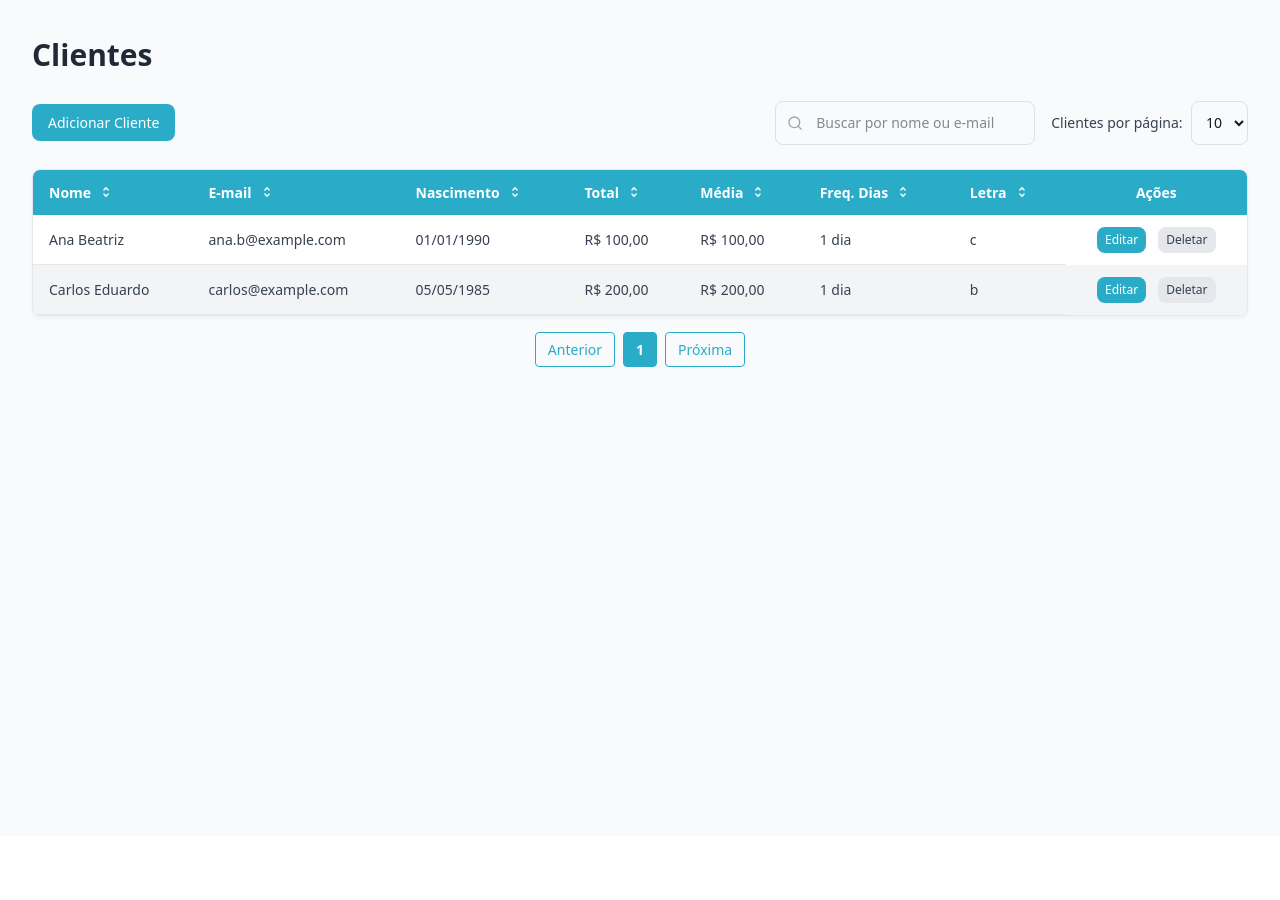
Test: ClientsPage CRUD › Should create a new client correctly
Expected: the text "Ana Beatriz" is shown, [33,215,192,265]
Click the button "Adicionar Cliente": (104, 123) [32,104,176,141]
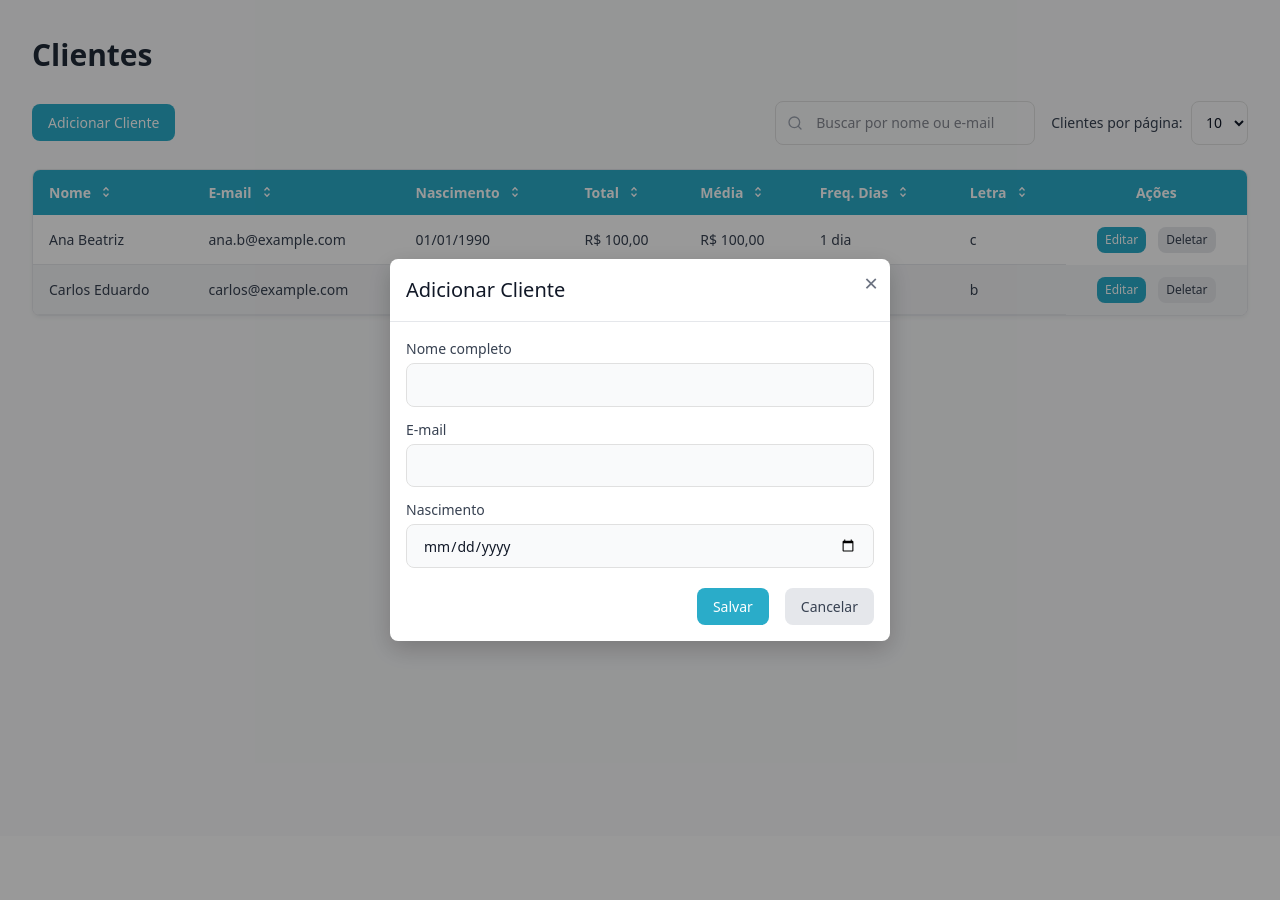
In the field labelled "Nome completo": (640, 385) [406,363,874,407], type "João Silva"
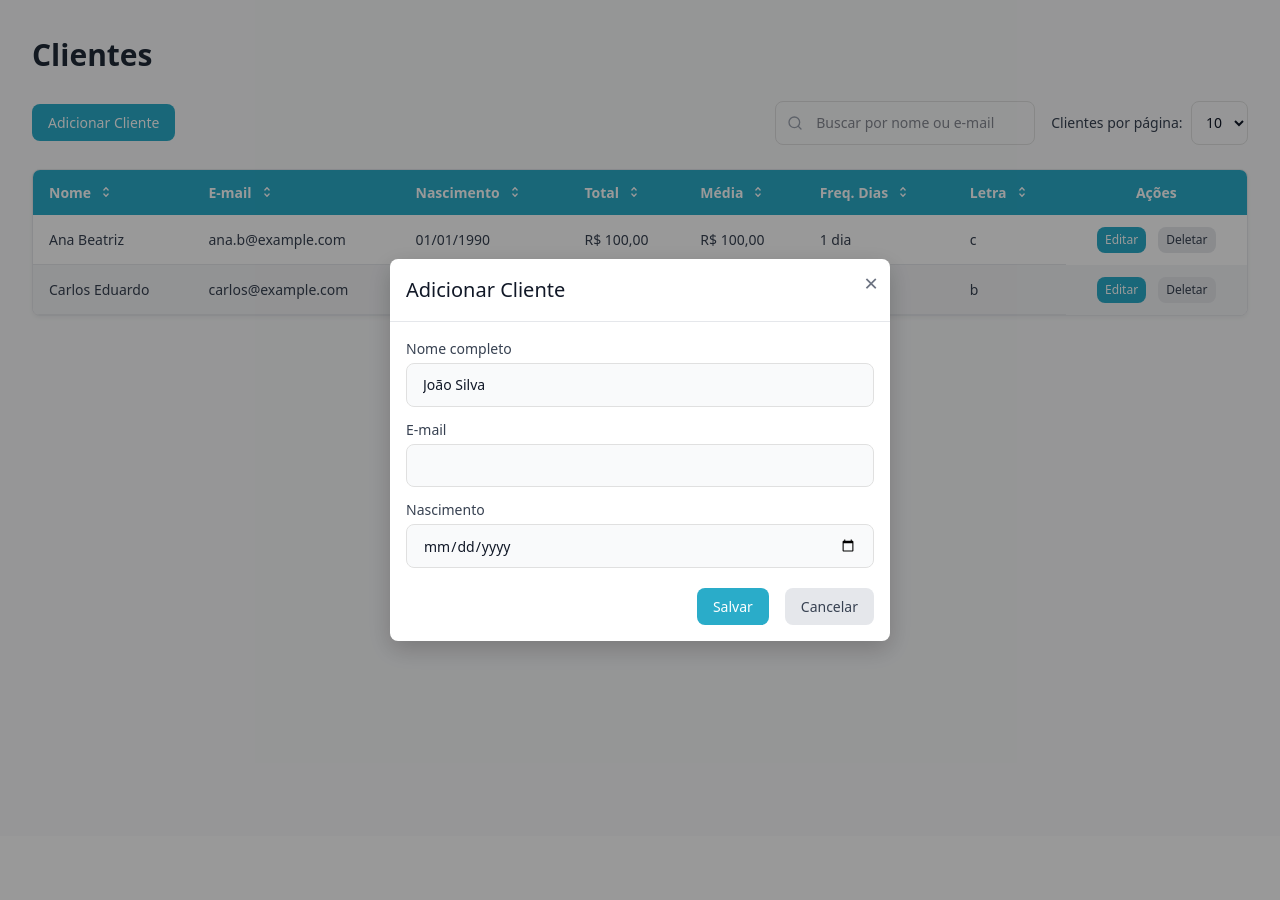
In the field labelled "E-mail": (640, 466) [406,444,874,487], type "joao@example.com"
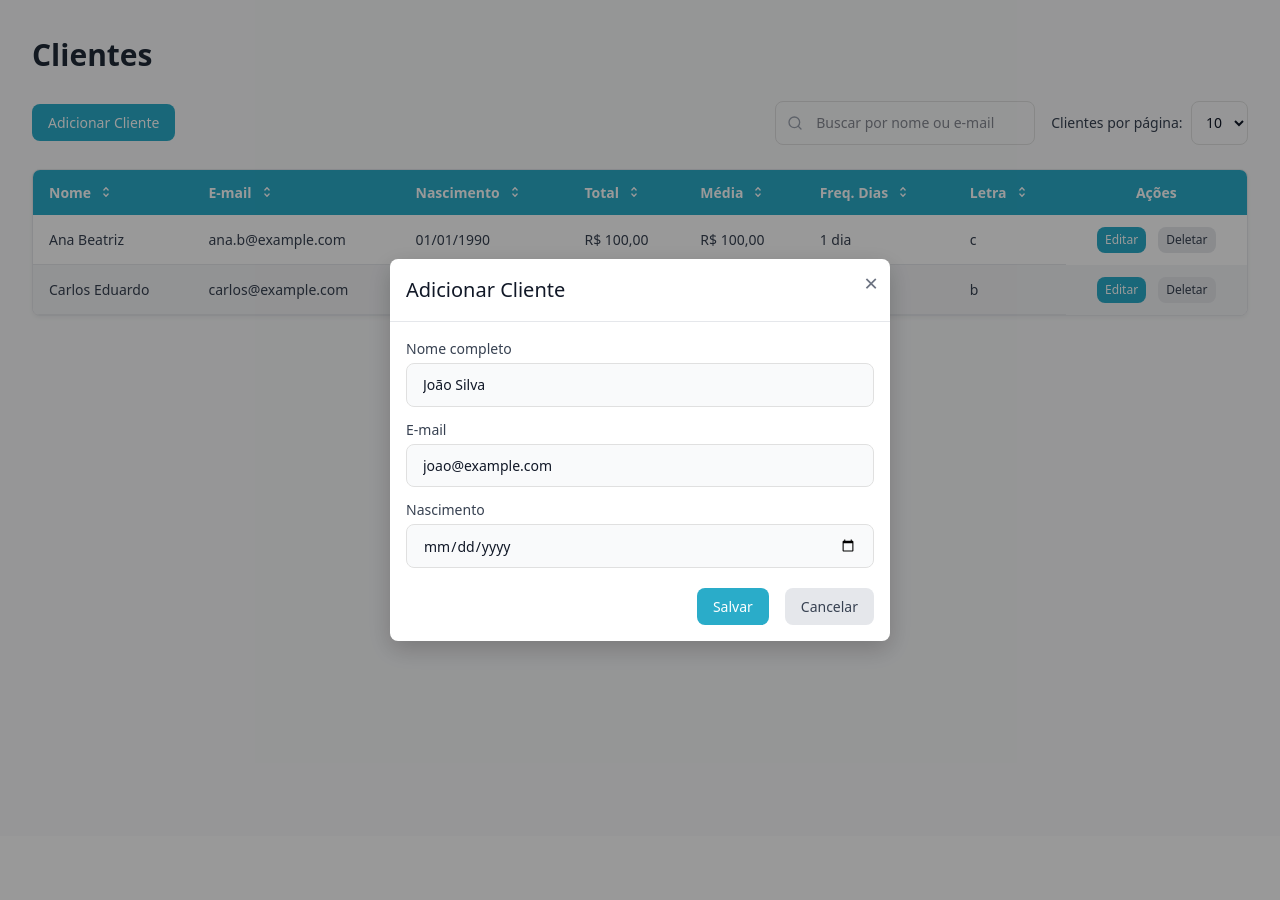
In the date field labelled "Nascimento": (640, 546) [406,524,874,568], type "1990-12-31"
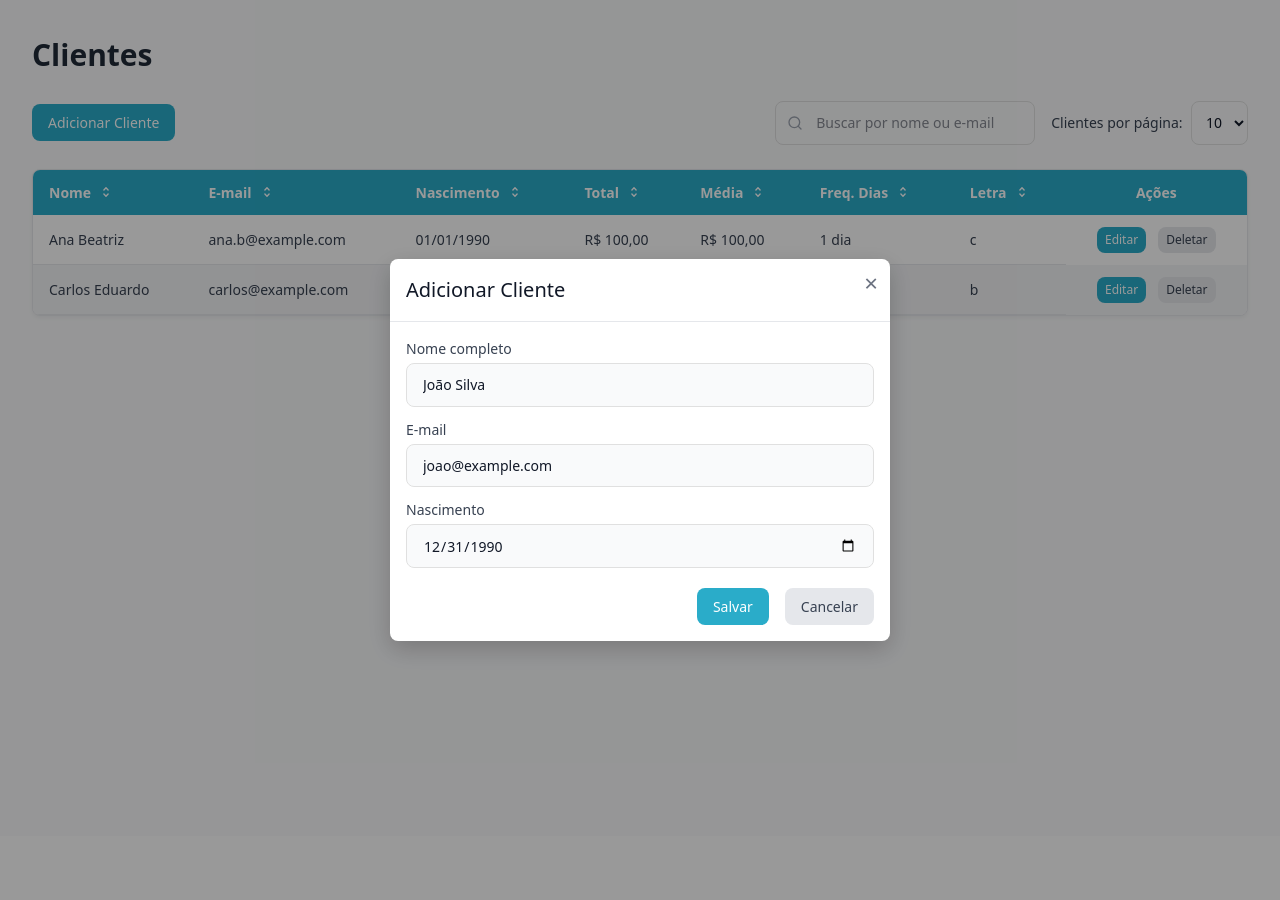
Click the button "Salvar": (733, 607) [697,588,769,625]
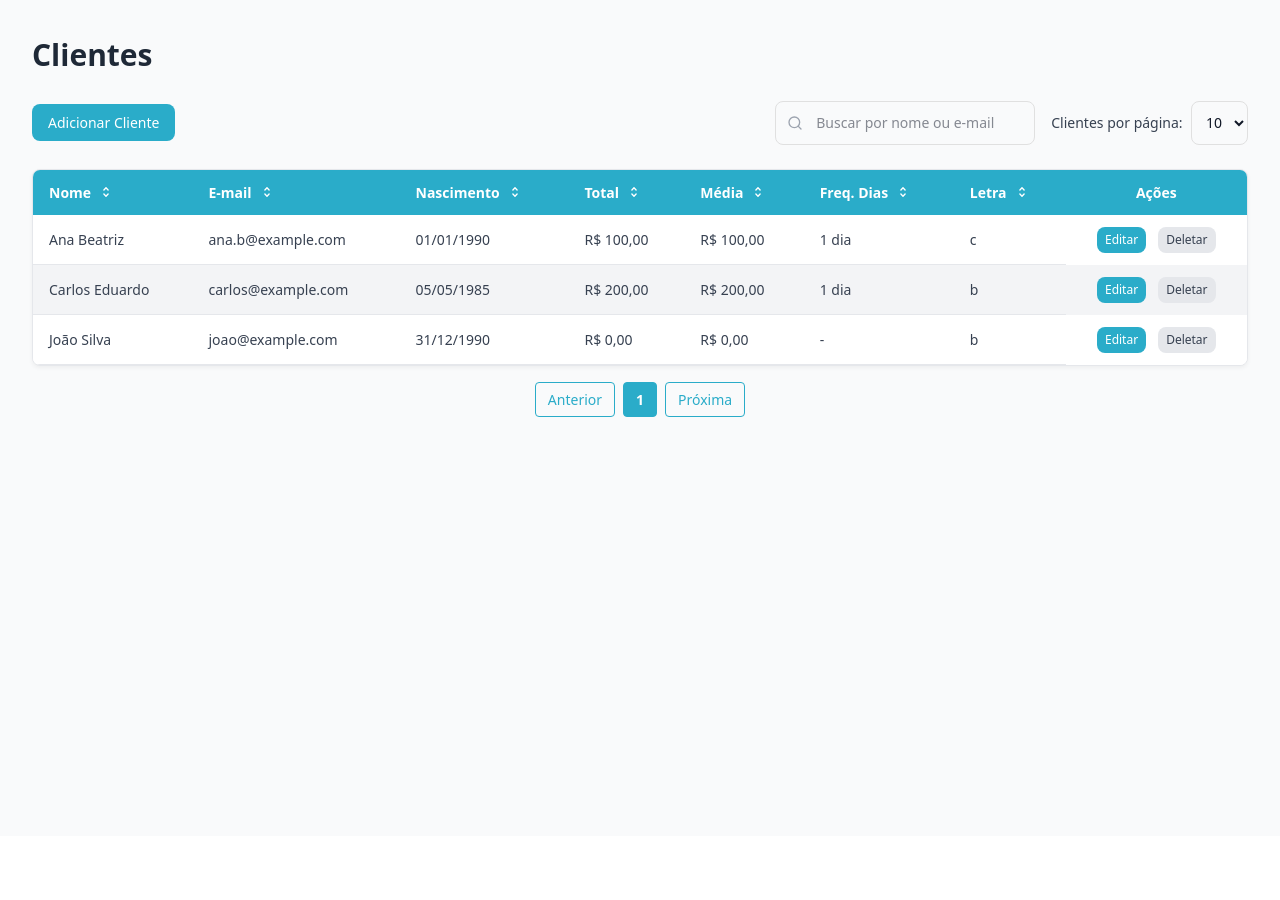
Expected: the text "João Silva" is shown, [33,315,192,365]
Expected: the text "joao@example.com" is shown, [192,315,400,365]
